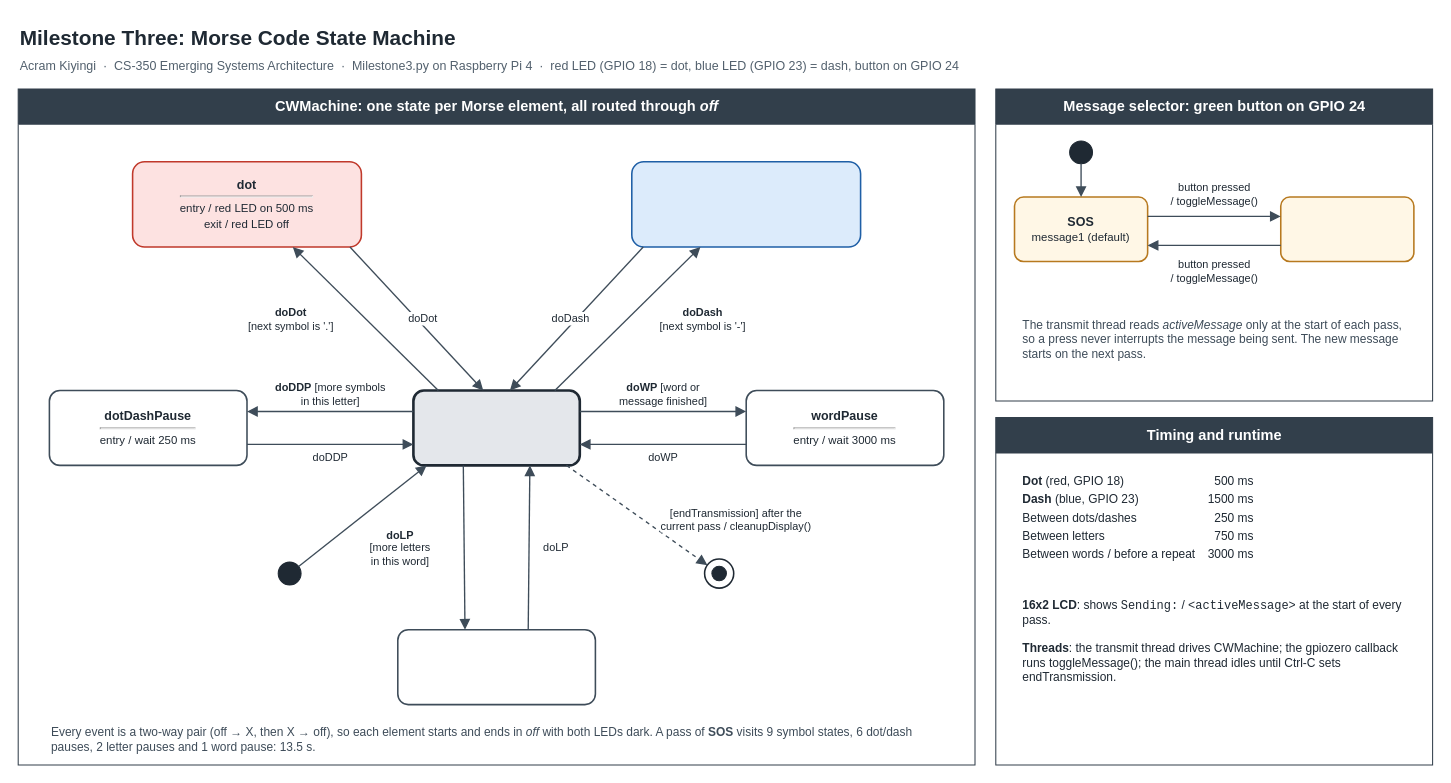
The diagram is 1451 pixels wide and 783 high, and some of its shapes have lost their labels. Each missing label, with the centre of its shape:
dash entry / blue LED on 1500 ms exit / blue LED off: point 746,203
letterPause entry / wait 750 ms: point 496,666
off initial / idle hub both LEDs dark: point 496,427
OK message2: point 1347,229
